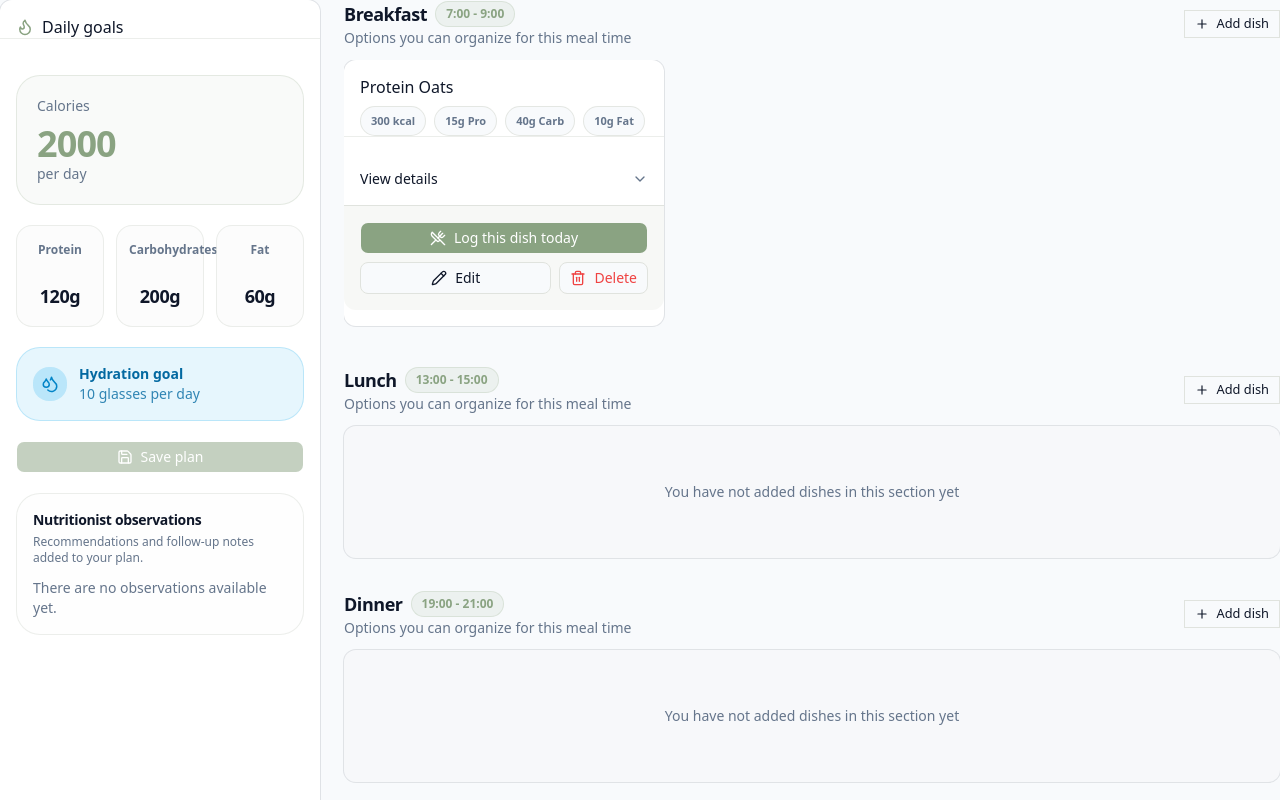
NutritionPlanWorkspace › renders editable self-managed mode for the patient
Expected: the text "Daily goals" is shown, [16,16,124,38]
Expected: the button "Log this dish today" is shown, [360,222,648,254]
Click the button "Add dish" in the row of "7:00 - 9:00" at (1232, 24), box [1184,10,1279,38]
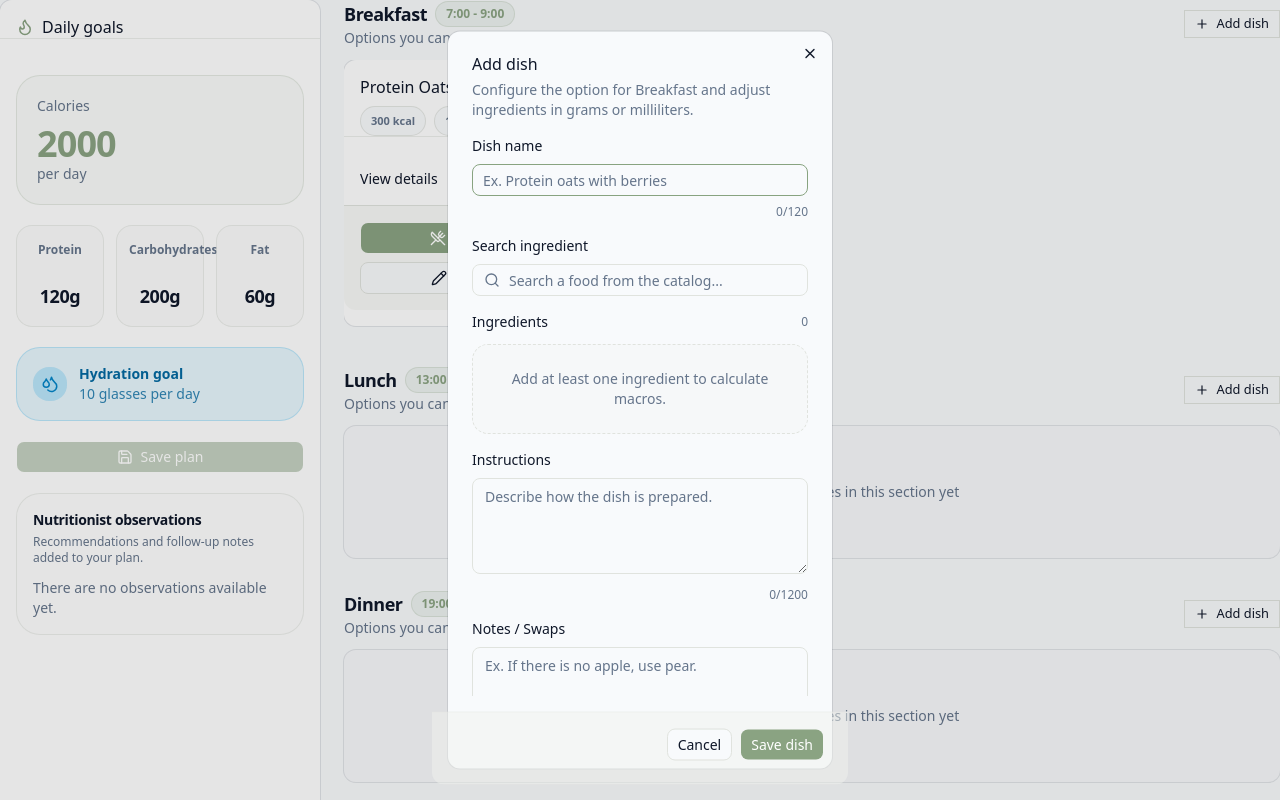
Now the button "Save dish" is shown, box [740,728,824,760]
